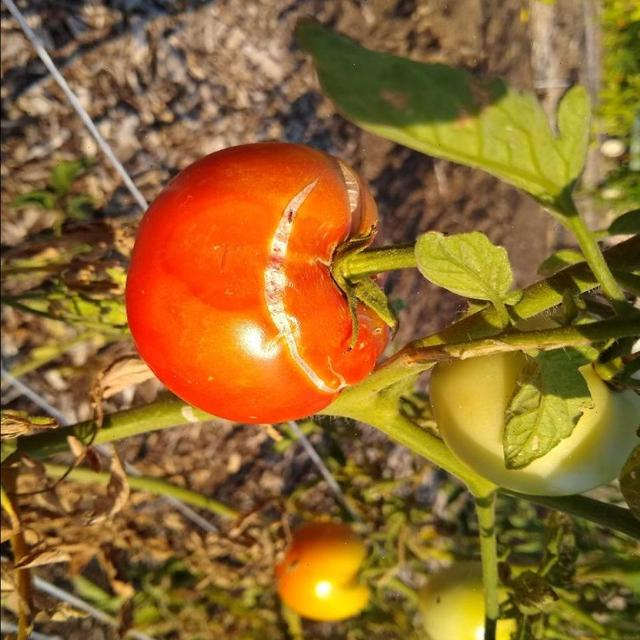Cracking Fruit: (169, 112, 232, 276)
